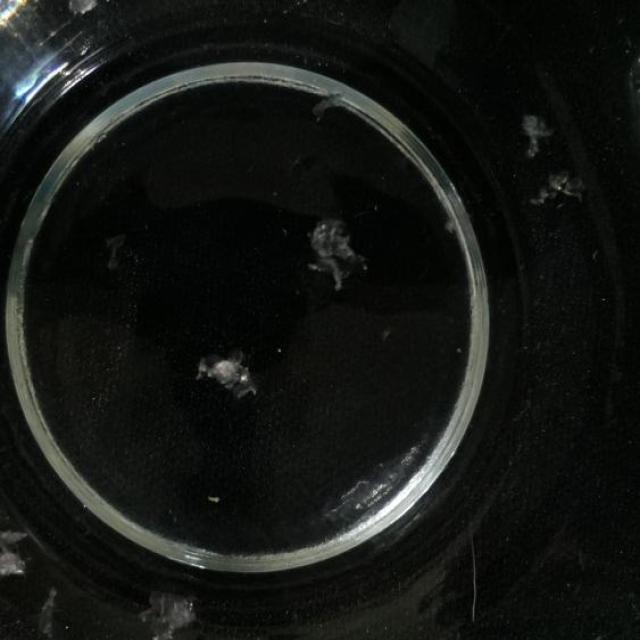fiber: (304, 217, 371, 288), (187, 348, 267, 403), (520, 160, 588, 217), (138, 586, 206, 639), (0, 507, 35, 588), (511, 106, 554, 155), (56, 0, 112, 32)
